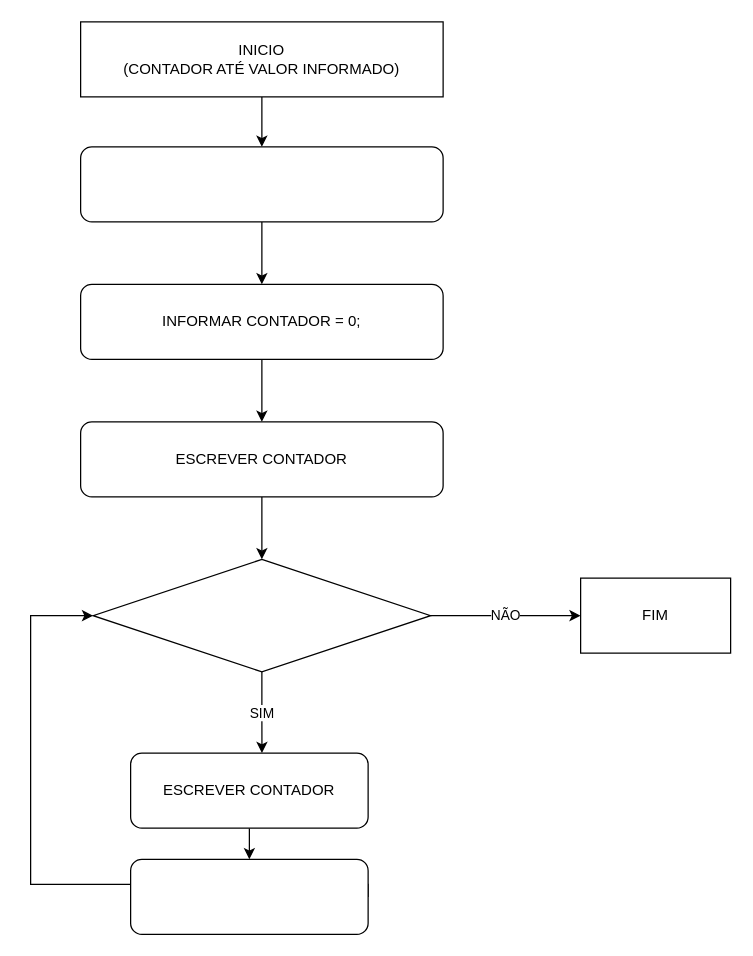
Image size: 753x956. Some labels were removed from this diagram. Here are the shapes that lost their labels. From the top down, the box of each, then its label:
(79, 146, 443, 222): RECEBE ATÉ VALOR INFORMADO
(92, 558, 431, 672): CONTADOR < VALOR INFORMADO
(129, 858, 368, 934): SOMAR CONTADOR CONTADOR++
